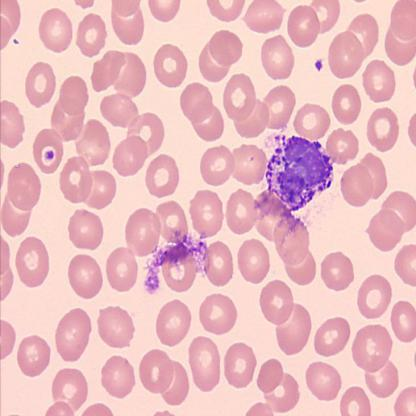Basophil: (263, 132, 334, 216)
